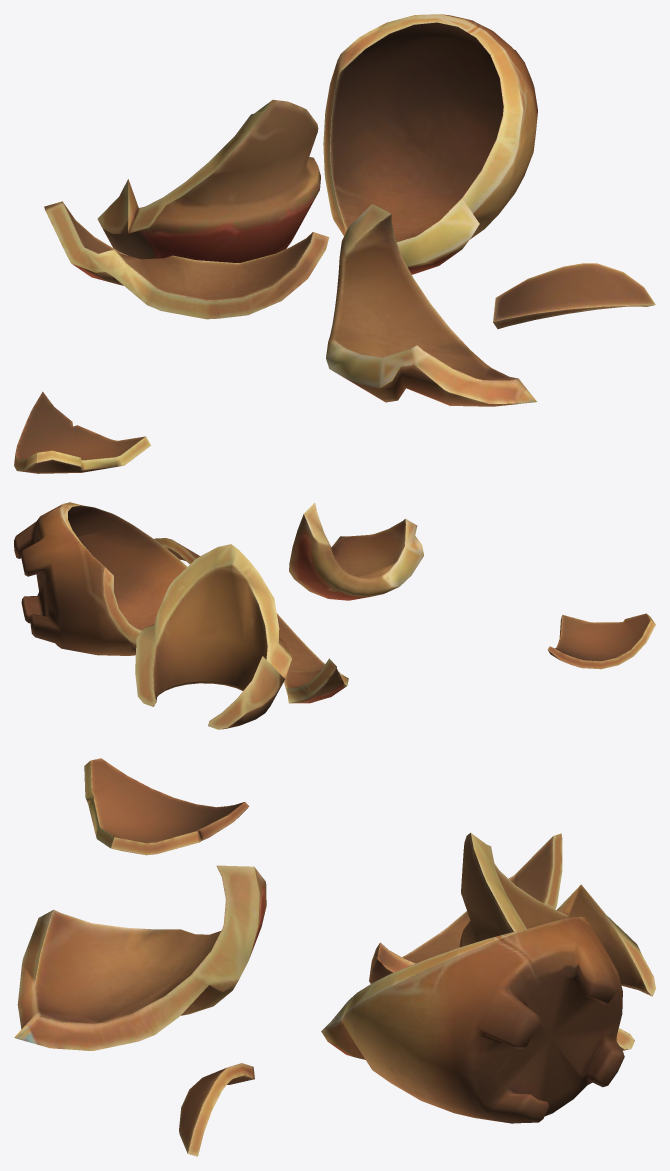
The model's file is DE_Flowerpot_07.fbx.
3 views of the same model, one above another, from view 1: azimuth 30°, elevation 25°; view 2: azimuth 150°, elevation 25°; view 3: azimuth 270°, elevation 25° (orthographic). The views are drawn at different scales.
Parts seen in each view (by area): view 1: DE_Flowerpot_07; view 2: DE_Flowerpot_07; view 3: DE_Flowerpot_07.
Boxes of the visible parts, x1,y1,x2,y2 form: DE_Flowerpot_07: (14,14,655,473); DE_Flowerpot_07: (14,502,655,729); DE_Flowerpot_07: (14,758,655,1156).
Size of the model in its own units: 5.3 by 1.4 by 3.94.
